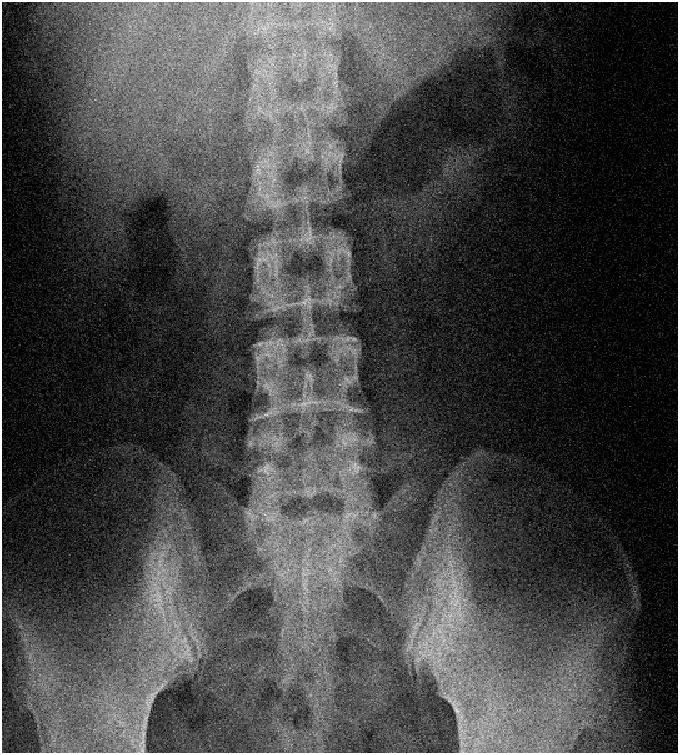lumbar scoliosis: (242, 152, 380, 521)
